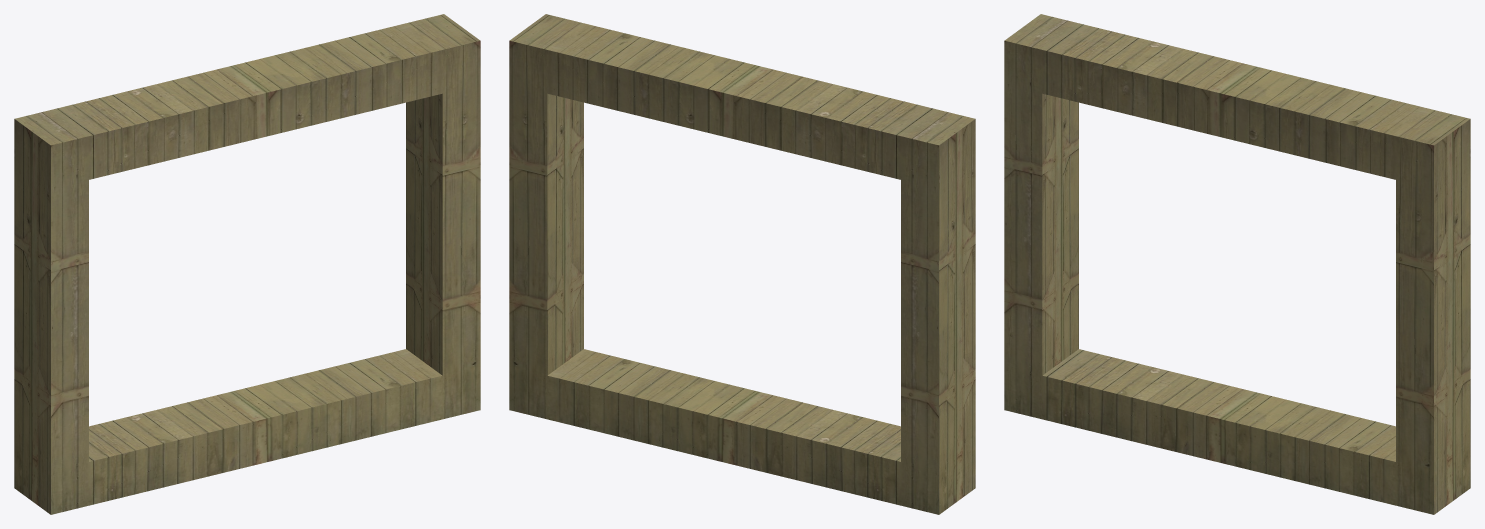
3 renders of one model, left to right at view 1: azimuth 30°, elevation 25°; view 2: azimuth 150°, elevation 25°; view 3: azimuth 330°, elevation 25°, orthographic.
Parts seen in each view (by area): view 1: Plane007_door_0; view 2: Plane007_door_0; view 3: Plane007_door_0.
Part boxes in pixels (bbox=[...]): Plane007_door_0: bbox=[14, 14, 480, 514]; Plane007_door_0: bbox=[509, 14, 975, 514]; Plane007_door_0: bbox=[1004, 14, 1470, 514].
Bounding box in the file's own units: 2.31 × 1.9 × 0.34.
Materials: 1 (1 with a texture image).
